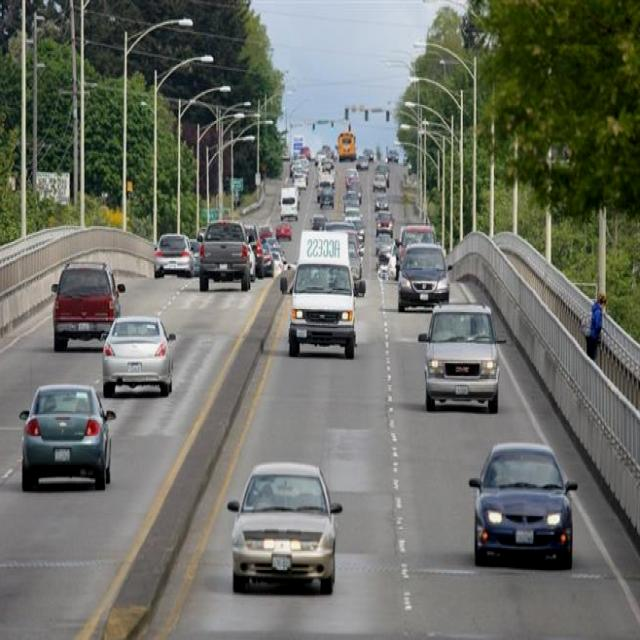Vehicle: (219, 434, 344, 604), (466, 424, 580, 572), (277, 230, 368, 364), (417, 294, 513, 414), (17, 382, 113, 494), (101, 304, 184, 400), (39, 259, 104, 347), (196, 220, 252, 296), (393, 247, 450, 289), (150, 224, 192, 278)
